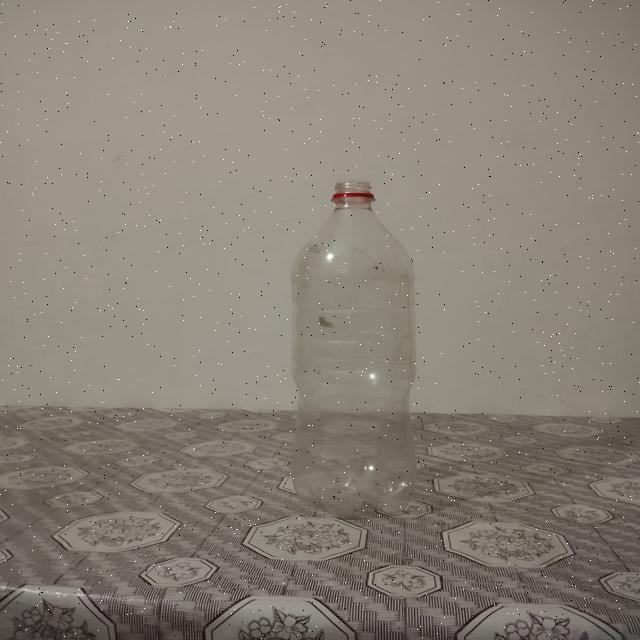bottle: (286, 173, 421, 523)
